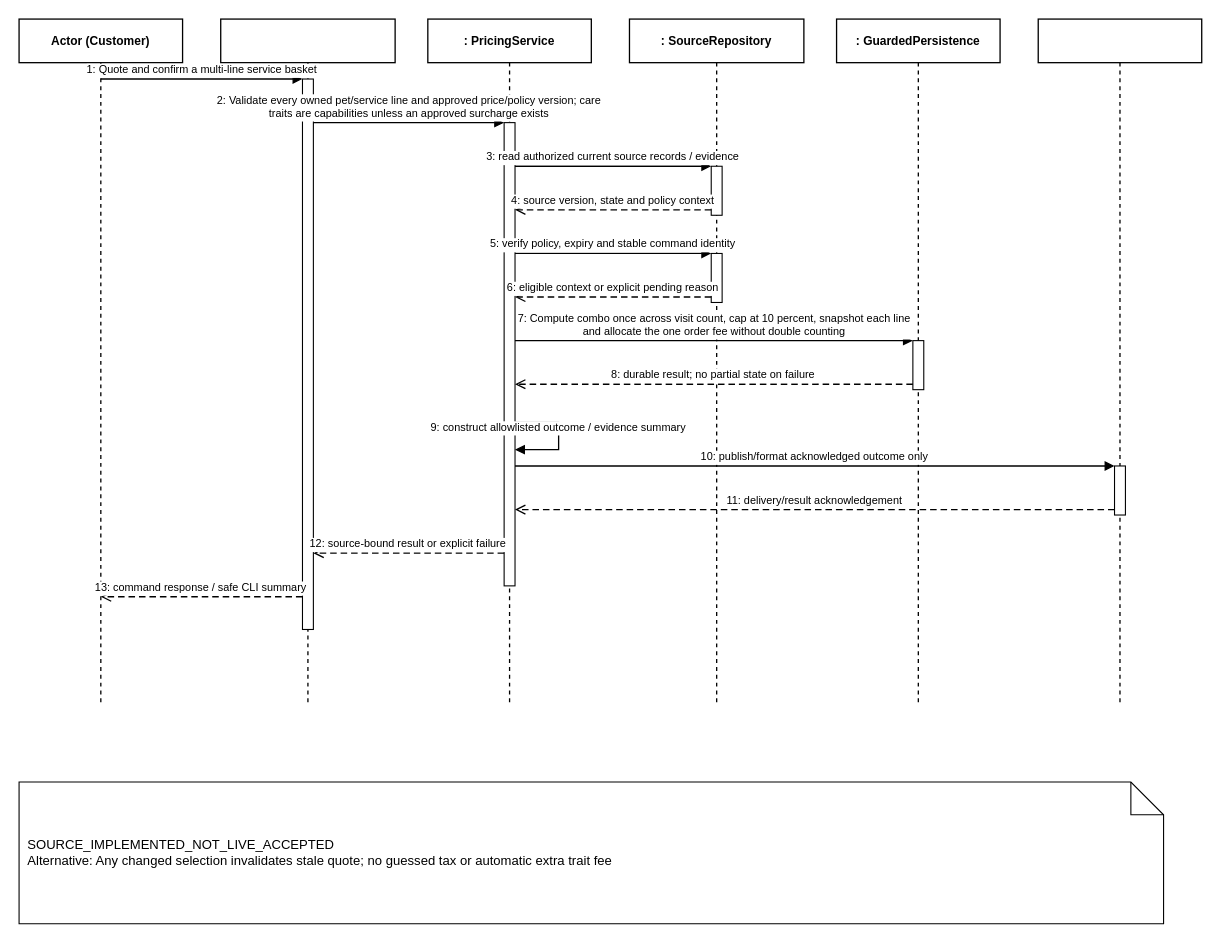
Some shapes in this 1222 by 944 pixel diagram are drawn without their labels. The shapes that lost their labels are listed below. From the top down, each one's box as (x1, y1, x2, y2) in pixels, then its label:
(220, 18, 395, 706): : CommandBoundary
(1037, 18, 1202, 706): : Result / Delivery Port
